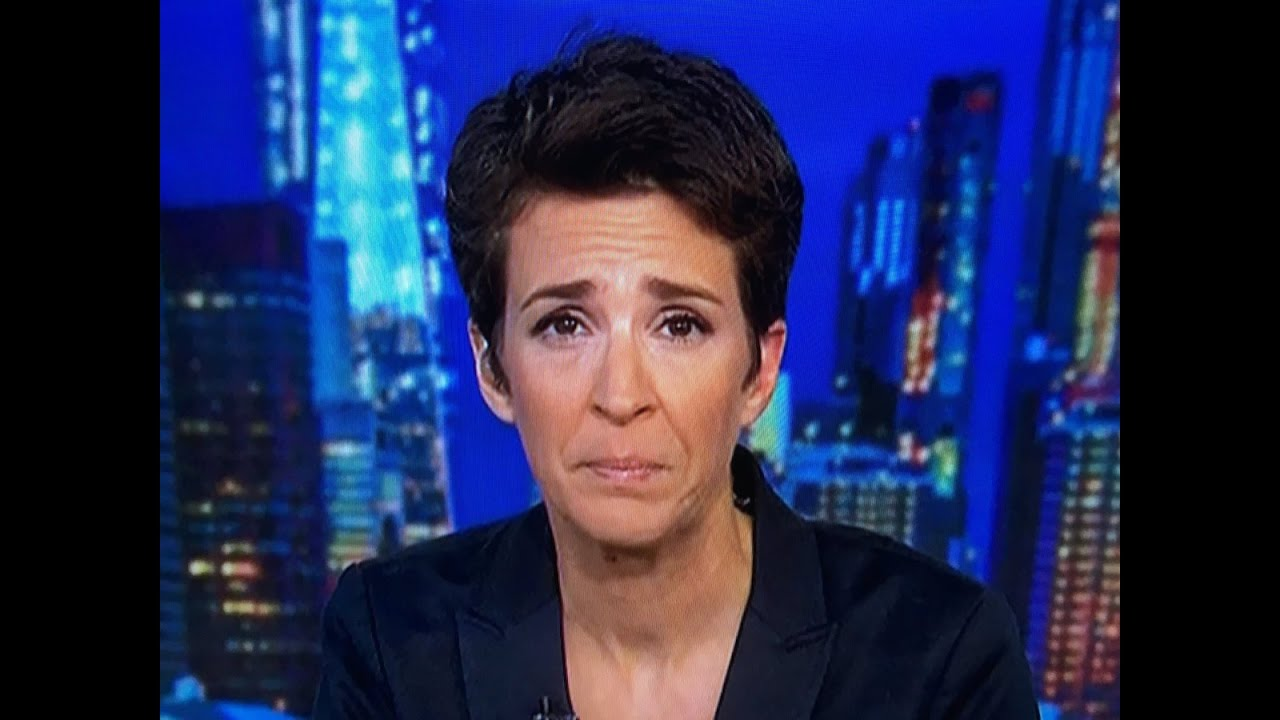sad: (504, 208, 751, 544)
